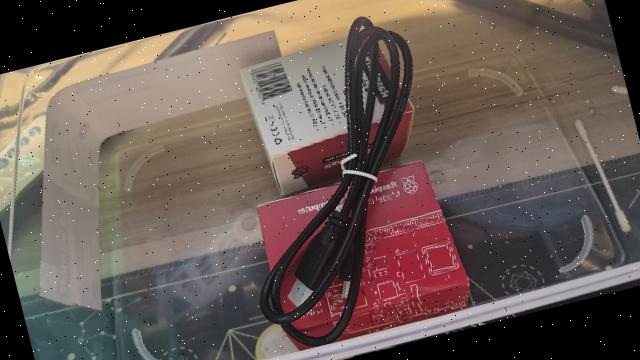charger_box: (224, 19, 422, 201)
hdmi_cable: (203, 15, 467, 355)
rpi_box: (237, 153, 482, 360)
